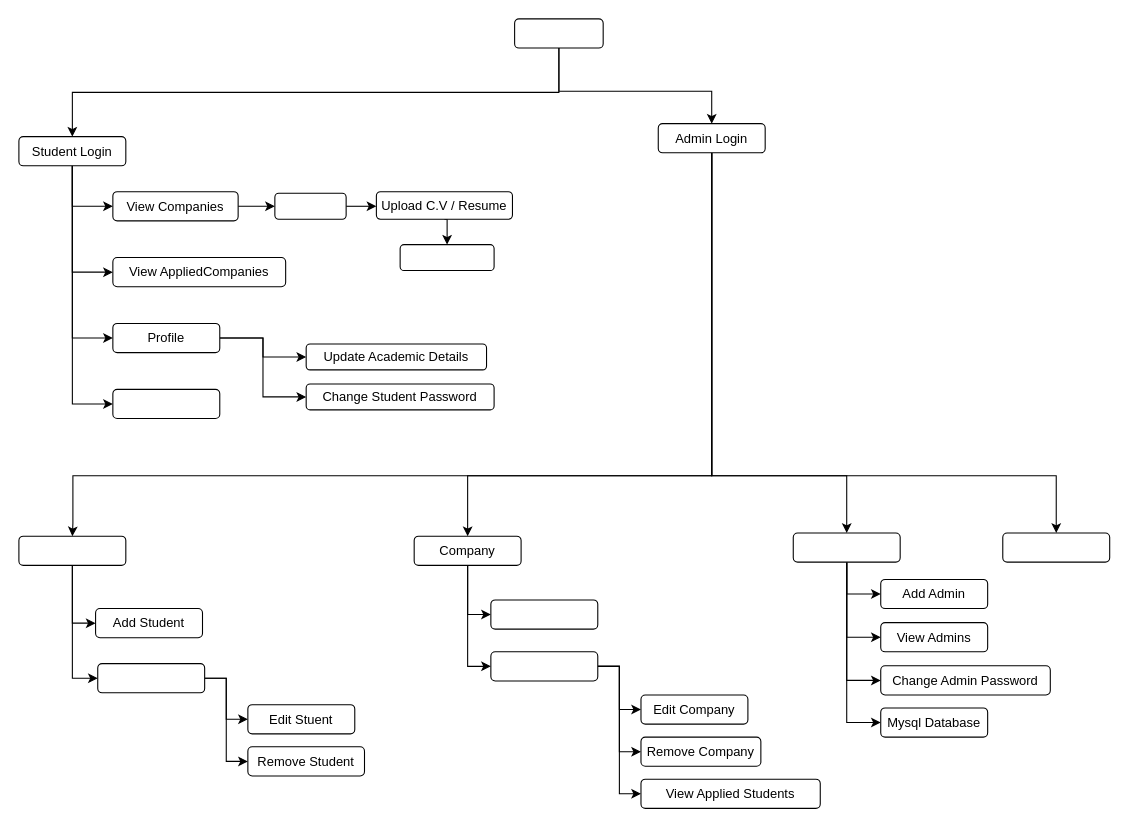
The diagram is 1129 pixels wide and 827 high, and some of its shapes have lost their labels. The box of each missing label's shape, as (x1, y1, x2, y2) in pixels:
Add Company: (490, 599, 598, 629)
Admin: (792, 532, 900, 562)
Apply: (274, 192, 346, 219)
Home: (514, 18, 603, 48)
Log out: (1002, 532, 1110, 562)
Logout: (112, 388, 220, 418)
Student: (18, 535, 126, 565)
Submit: (399, 244, 494, 271)
View Company: (490, 651, 598, 681)
View Students: (97, 663, 205, 693)
